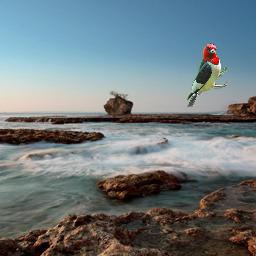Woodpecker: (185, 43, 227, 107)
